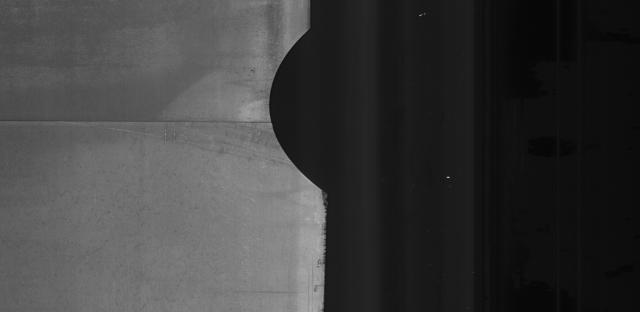welding_line: (5, 109, 283, 132)
